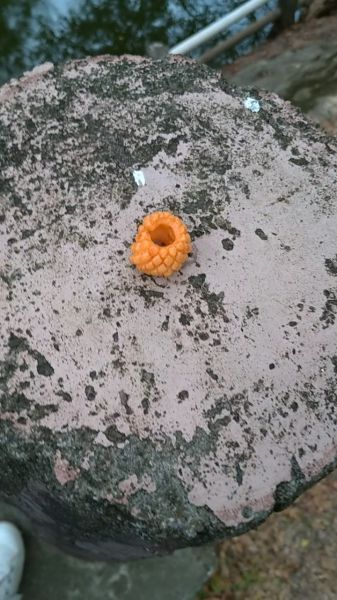eggs: (121, 206, 196, 281)
